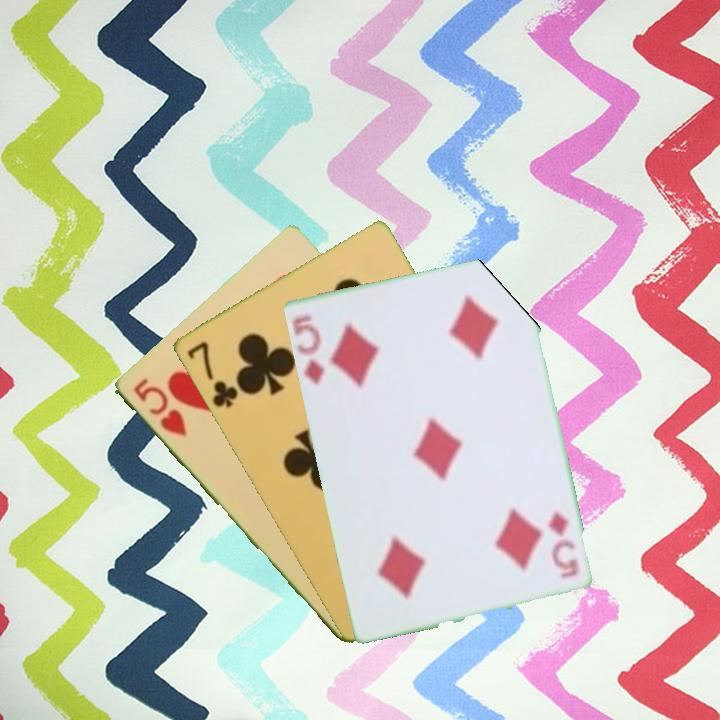5d: (288, 311, 327, 388), (544, 506, 582, 581)
5h: (129, 374, 190, 440)
7c: (183, 337, 241, 411)
